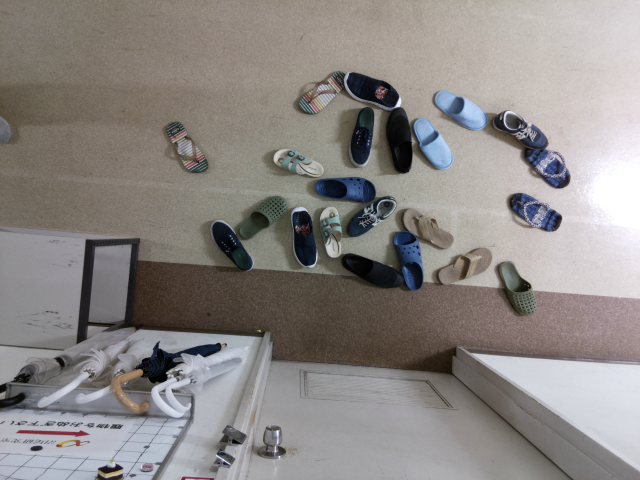Copy of Copy of Copy of Copy of Copy of Copy of Copy of shoes: (209, 218, 254, 271)
Copy of Copy of Copy of Copy of Copy of Copy of shoes: (290, 205, 318, 268)
Copy of Copy of Copy of Copy of Copy of shoes: (342, 251, 404, 289)
Copy of Copy of Copy of Copy of Copy of slipper: (237, 195, 289, 241)
Copy of Copy of Copy of Copy of shoes: (345, 195, 397, 237)
Copy of Copy of Copy of Copy of slipper: (313, 176, 376, 203)
Copy of Copy of Copy of shoes: (347, 106, 375, 167)
Copy of Copy of Copy of slipper: (393, 230, 424, 290)
Copy of Copy of shoes: (385, 107, 413, 173)
Copy of Copy of slipper: (497, 260, 537, 315)
Copy of shoes: (343, 70, 401, 111)
Copy of slipper: (411, 117, 453, 170)
sandal: (166, 121, 209, 173), (402, 207, 453, 249), (510, 192, 563, 232), (298, 70, 345, 114), (523, 146, 571, 189), (438, 247, 492, 285), (272, 148, 325, 178), (318, 205, 343, 258)
shoes: (491, 110, 548, 151)
slipper: (433, 89, 487, 131)
